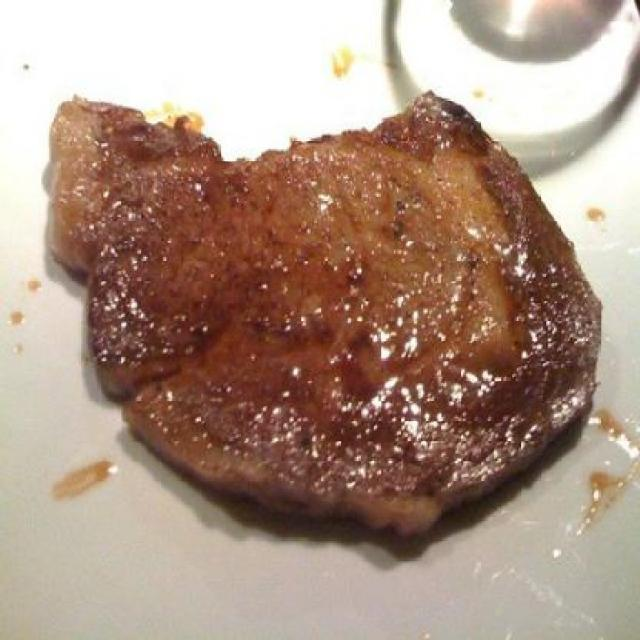Steak: (43, 78, 608, 567)
